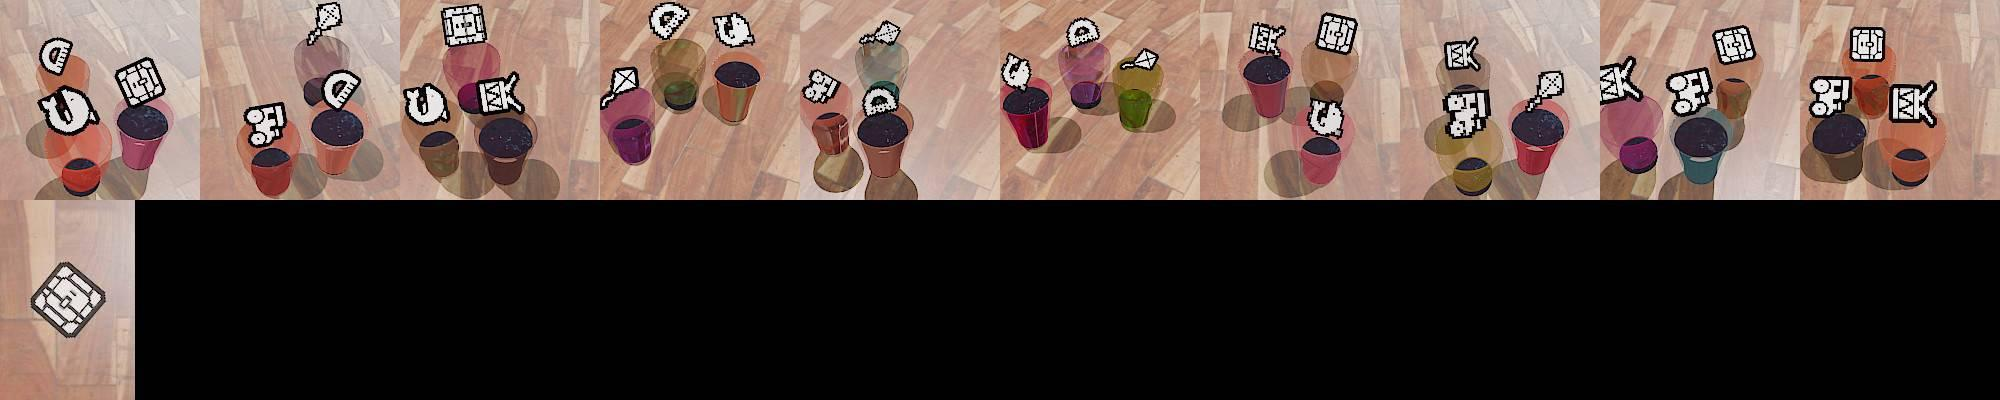icon: (29, 262, 106, 341), (37, 86, 100, 137), (114, 57, 168, 108), (1443, 86, 1491, 140), (1666, 67, 1713, 117), (1888, 80, 1938, 126), (243, 101, 289, 150), (402, 82, 452, 127), (1600, 55, 1644, 106), (440, 3, 488, 49), (476, 72, 524, 116), (1809, 74, 1853, 119), (1524, 69, 1565, 116), (599, 66, 643, 109), (1316, 11, 1358, 55), (321, 69, 362, 113), (1712, 25, 1757, 65), (710, 11, 757, 49), (648, 2, 692, 42), (305, 1, 343, 46), (1306, 96, 1345, 137), (801, 67, 842, 105), (38, 37, 75, 77), (860, 83, 900, 120), (1247, 21, 1286, 57), (1442, 36, 1480, 72), (1850, 26, 1887, 62), (1000, 51, 1033, 90), (858, 19, 902, 47), (1065, 17, 1101, 48), (1120, 46, 1160, 71)
